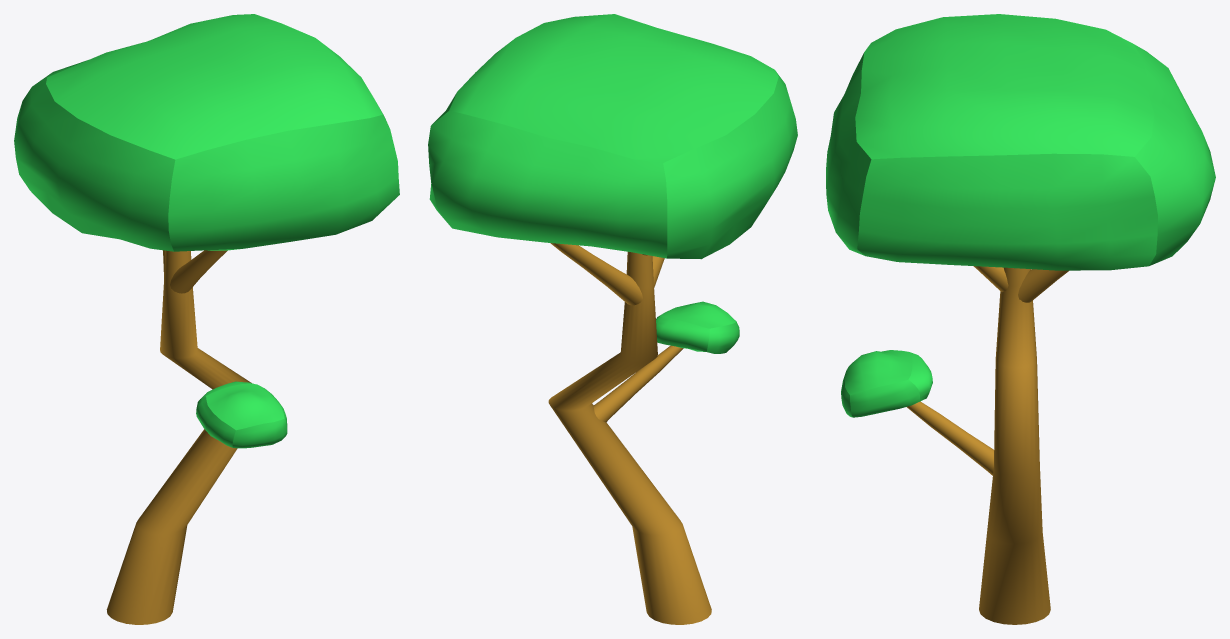
Rendered from basic tree_04.fbx.
3 renders of one model, left to right at view 1: azimuth 30°, elevation 25°; view 2: azimuth 150°, elevation 25°; view 3: azimuth 270°, elevation 25°, orthographic. The views are drawn at different scales.
Visible parts, largest first — view 1: Leaves_main, Tree_Body1, leaves_01, branch02; view 2: Leaves_main, Tree_Body1, leaves_01, branch06, branch05; view 3: Leaves_main, Tree_Body1, leaves_01, branch05, branch06.
Boxes of the visible parts, x1,y1,x2,y2 form: Leaves_main: [14, 14, 399, 251]; Tree_Body1: [106, 250, 251, 624]; leaves_01: [196, 381, 287, 448]; branch02: [170, 250, 227, 293]; Leaves_main: [428, 14, 797, 259]; Tree_Body1: [548, 251, 711, 624]; leaves_01: [656, 301, 739, 353]; branch06: [550, 243, 642, 305]; branch05: [593, 345, 683, 422]; Leaves_main: [826, 14, 1215, 270]; Tree_Body1: [979, 267, 1050, 624]; leaves_01: [841, 350, 932, 417]; branch05: [907, 401, 994, 475]; branch06: [1018, 269, 1068, 302].
Bounding box in the file's own units: 20.63 × 35.67 × 21.54.
